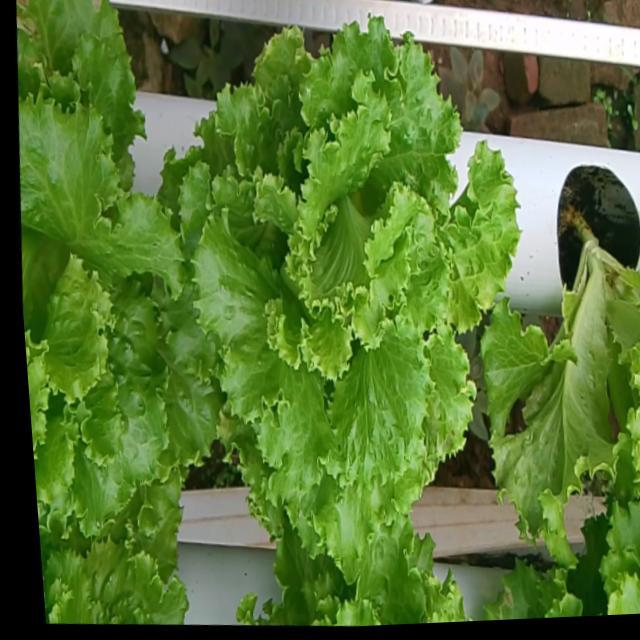Mature: (187, 0, 527, 546), (18, 75, 226, 523)
